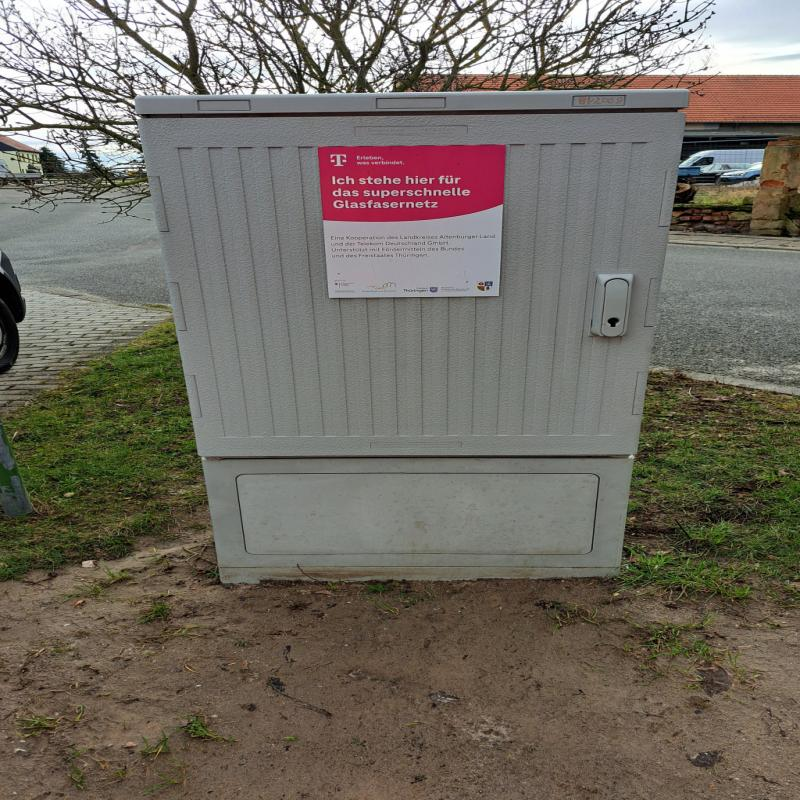NT-Gehause: (133, 97, 695, 564)
Steaker: (313, 143, 508, 295)
